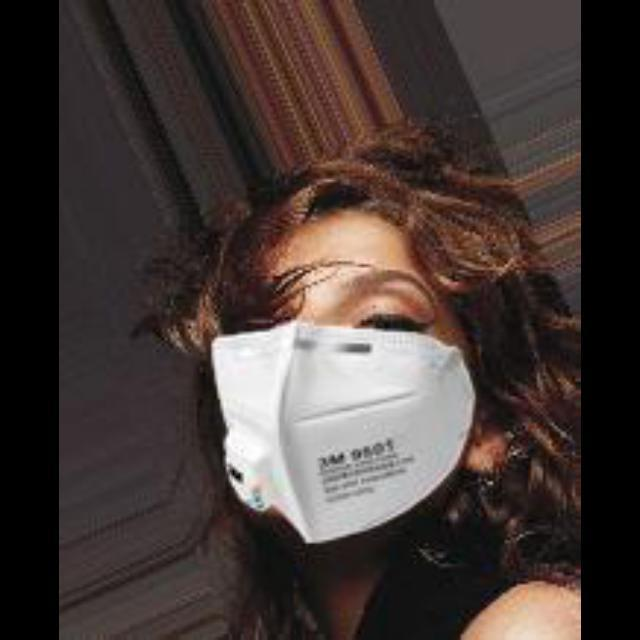suspicion: (204, 159, 506, 525)
